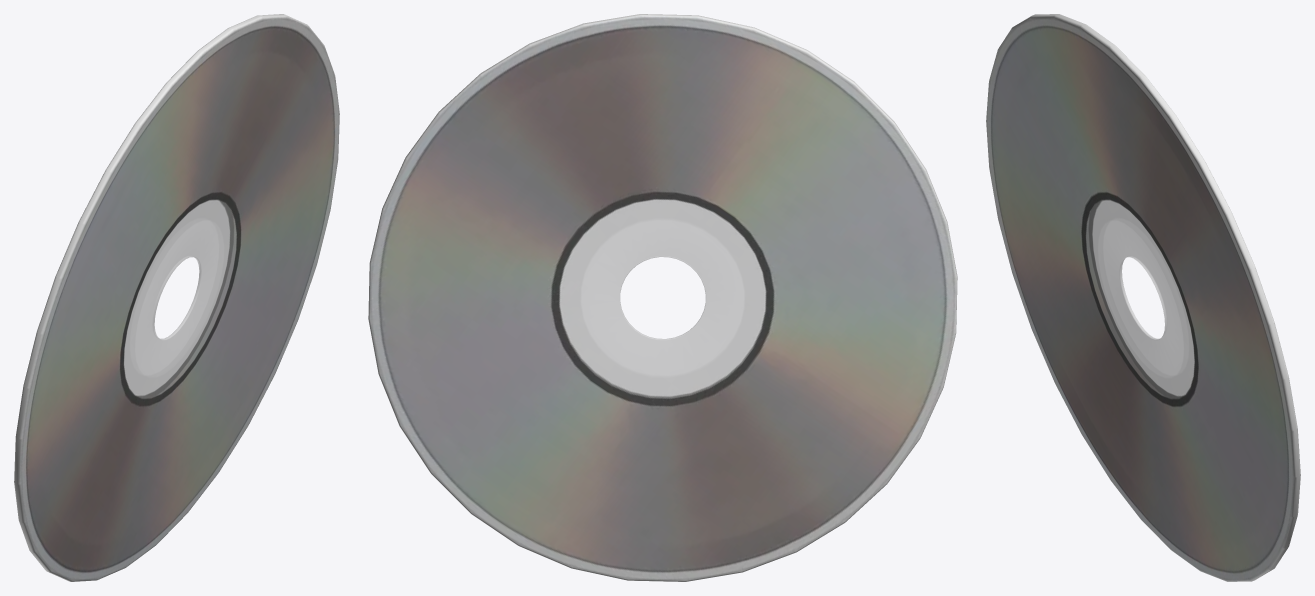
3 views of the same model, side by side, from view 1: azimuth 30°, elevation 25°; view 2: azimuth 150°, elevation 25°; view 3: azimuth 270°, elevation 25° (orthographic). The views are drawn at different scales.
Visible parts, largest first — view 1: Object_2; view 2: Object_2; view 3: Object_2.
Part boxes in pixels (x1=…): Object_2: x1=14, y1=14, x2=339, y2=581; Object_2: x1=368, y1=14, x2=957, y2=581; Object_2: x1=986, y1=14, x2=1300, y2=581.
Size of the model in its own units: 3.76 by 4.22 by 2.22.
Materials: 1 (1 with a texture image).
